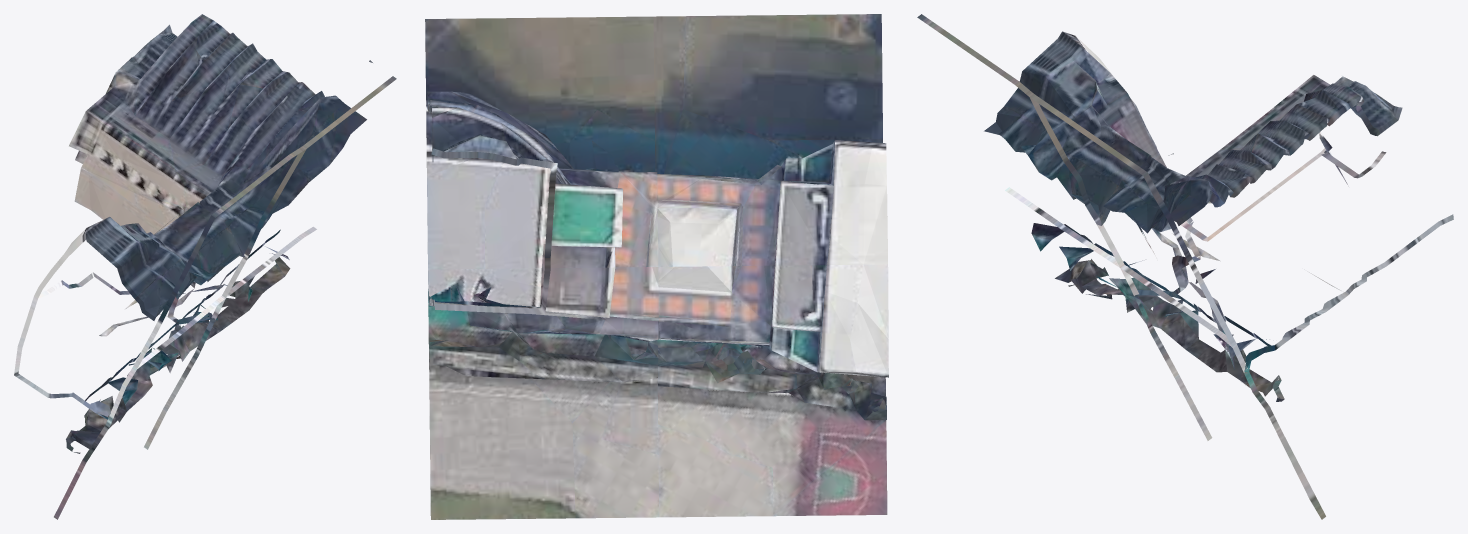
3 renders of one model, left to right at view 1: azimuth 30°, elevation 25°; view 2: azimuth 150°, elevation 25°; view 3: azimuth 270°, elevation 25°, orthographic. The views are drawn at different scales.
Size of the model in its own units: 81.3 by 72.67 by 85.32.
1 material, 1 textured.
